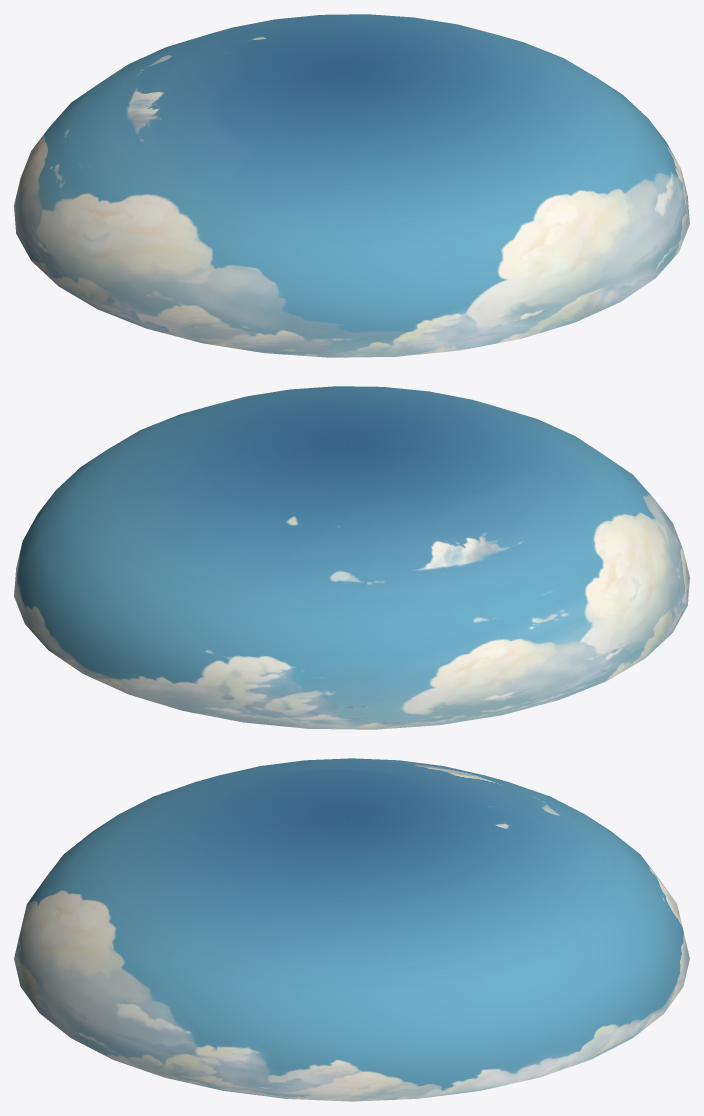
Rendered from Sky.FBX.
The picture shows the model from 3 angles, top to bottom: view 1: azimuth 30°, elevation 25°; view 2: azimuth 150°, elevation 25°; view 3: azimuth 270°, elevation 25°; orthographic projection.
Parts seen in each view (by area): view 1: Sphere001; view 2: Sphere001; view 3: Sphere001.
Part boxes in pixels (x1,y1,x2,y2): Sphere001: (14,14,689,357); Sphere001: (14,386,689,729); Sphere001: (14,758,689,1101).
Bounding box in the file's own units: 30861 × 7085 × 30861.
Materials: 1 (1 with a texture image).
